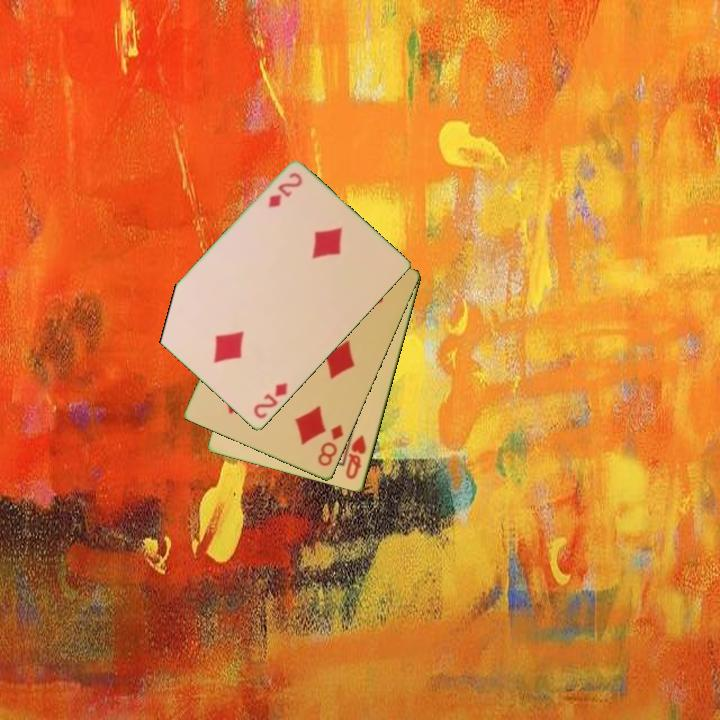2d: (250, 379, 291, 422), (264, 169, 305, 211)
8d: (314, 421, 347, 470)
Qh: (342, 432, 370, 482)
